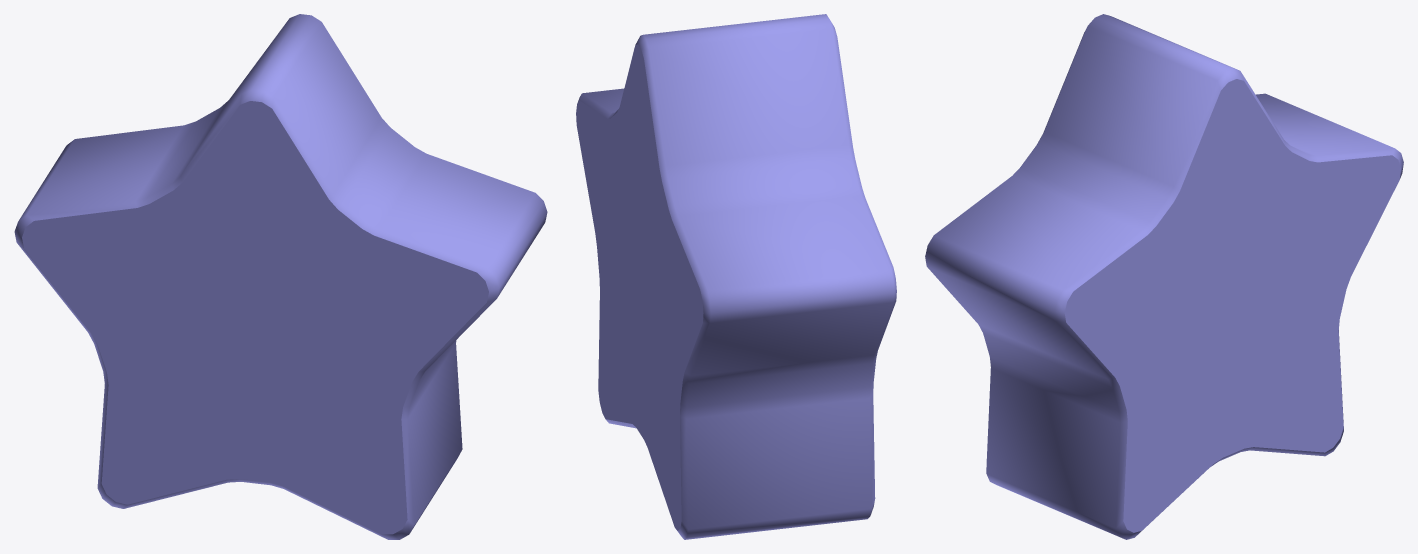
File: 005-Spatula_01.FBX
The picture shows the model from 3 angles, left to right: view 1: azimuth 30°, elevation 25°; view 2: azimuth 150°, elevation 25°; view 3: azimuth 270°, elevation 25°; orthographic projection. The views are drawn at different scales.
Parts seen in each view (by area): view 1: 005-Spatula_01; view 2: 005-Spatula_01; view 3: 005-Spatula_01.
Boxes of the visible parts, left/top/right/bottom form: 005-Spatula_01: left=14, top=14, right=547, bottom=539; 005-Spatula_01: left=576, top=14, right=896, bottom=539; 005-Spatula_01: left=925, top=14, right=1403, bottom=539.
Bounding box in the file's own units: 40.18 × 39.58 × 40.18.
